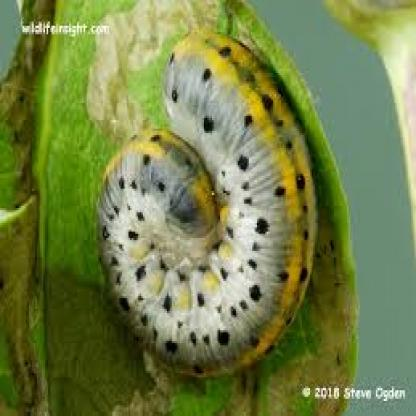sawfly: (88, 35, 322, 378)
